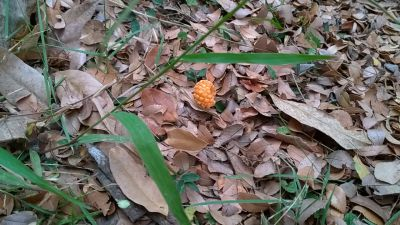eggs: (191, 75, 218, 112)
